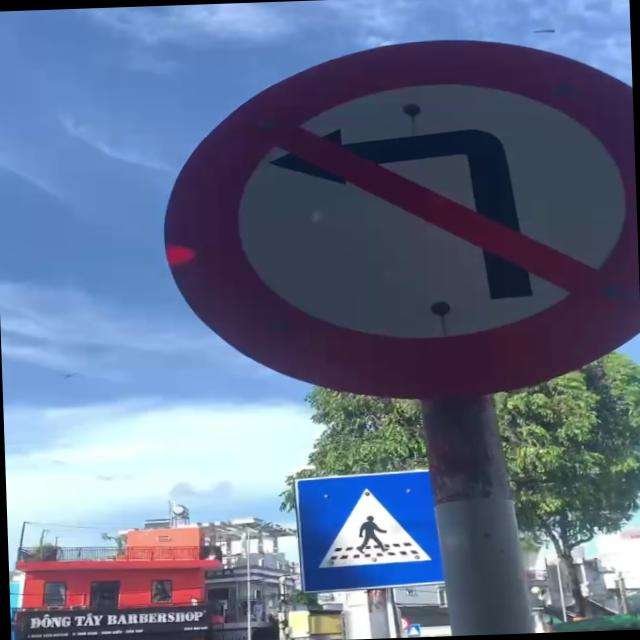Cam_Re_Trai: (155, 28, 640, 423)
